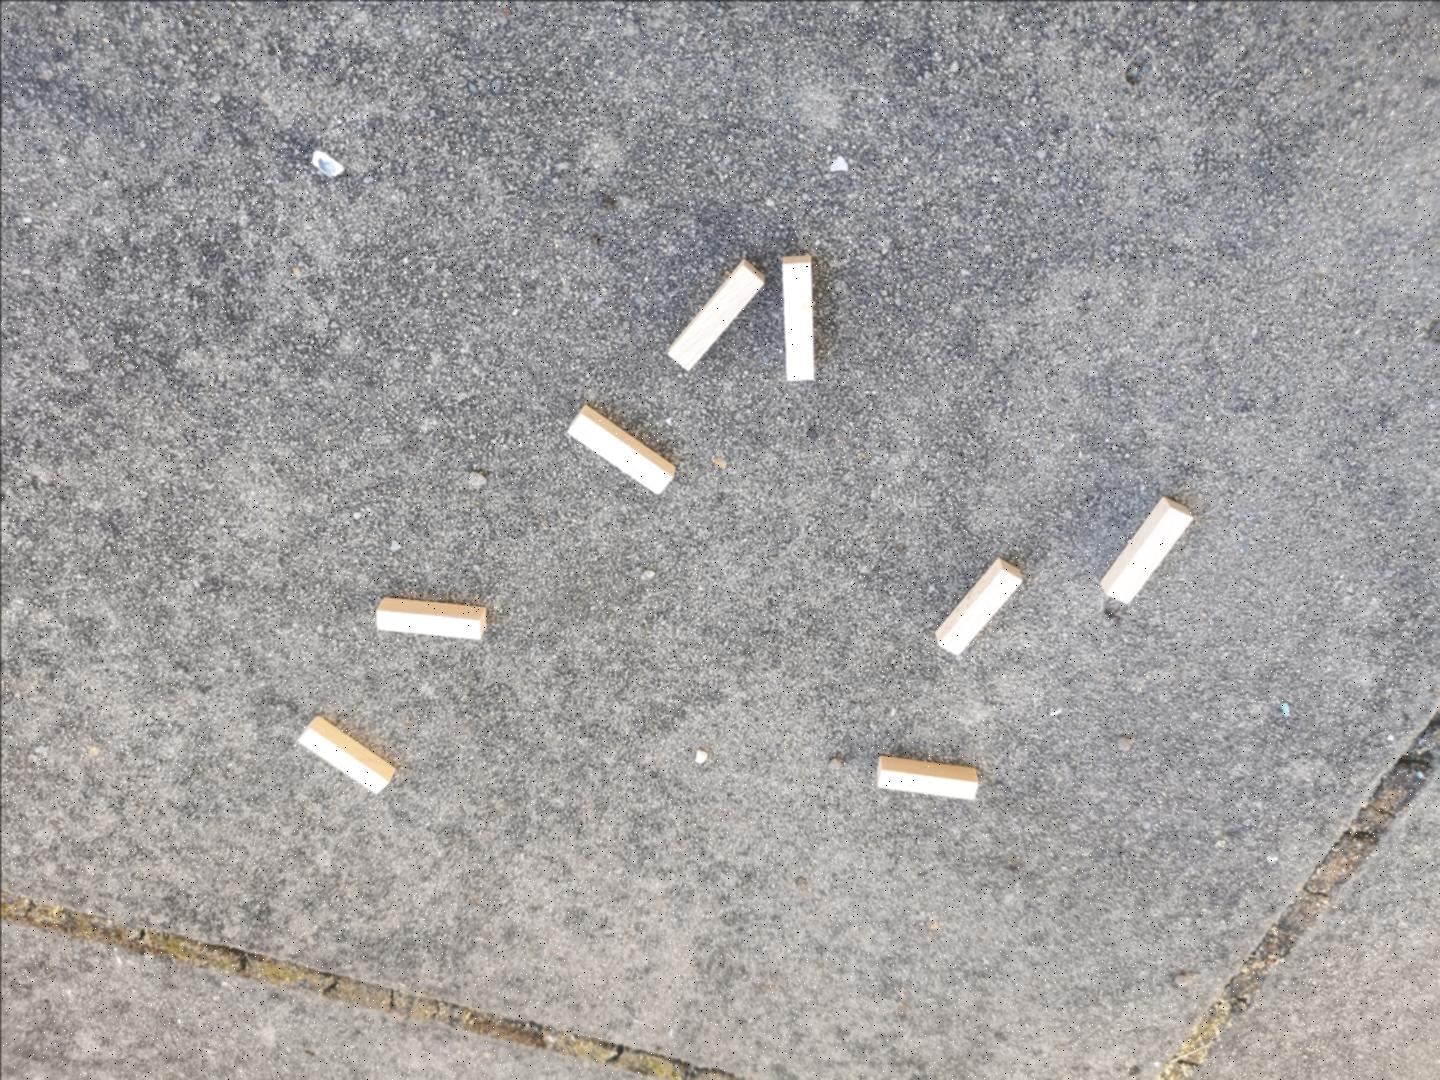jenga: (667, 259, 762, 369), (1100, 495, 1193, 602), (568, 405, 675, 492), (934, 557, 1020, 652), (298, 715, 393, 793), (874, 753, 979, 799), (374, 597, 486, 639), (782, 253, 813, 380)
